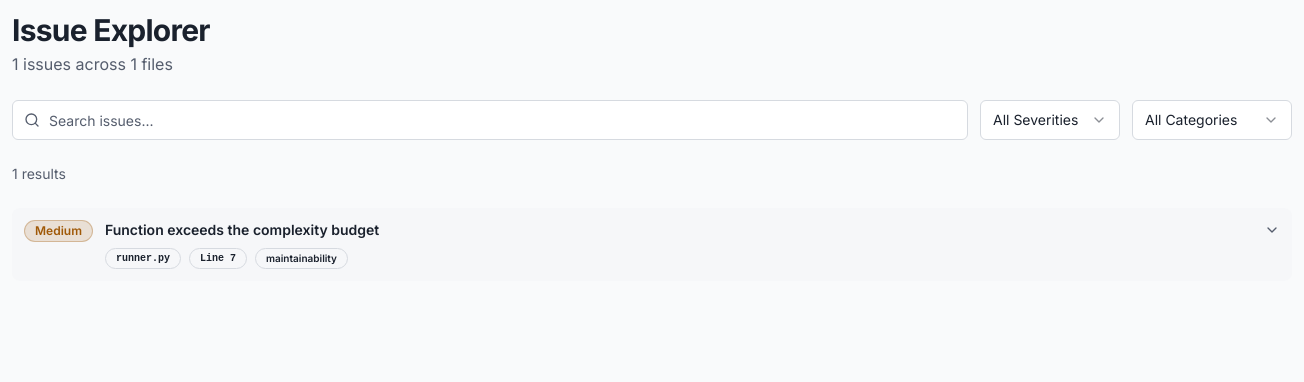
Test: IssueExplorer › gives each issue its context and remediation, not just a message
Check: the text "Function exceeds the complexity budget" is shown, box 105,221 -> 379,238
Click the button "Function exceeds the complexity budget" at x=242, y=230, box 105,220 -> 1280,240
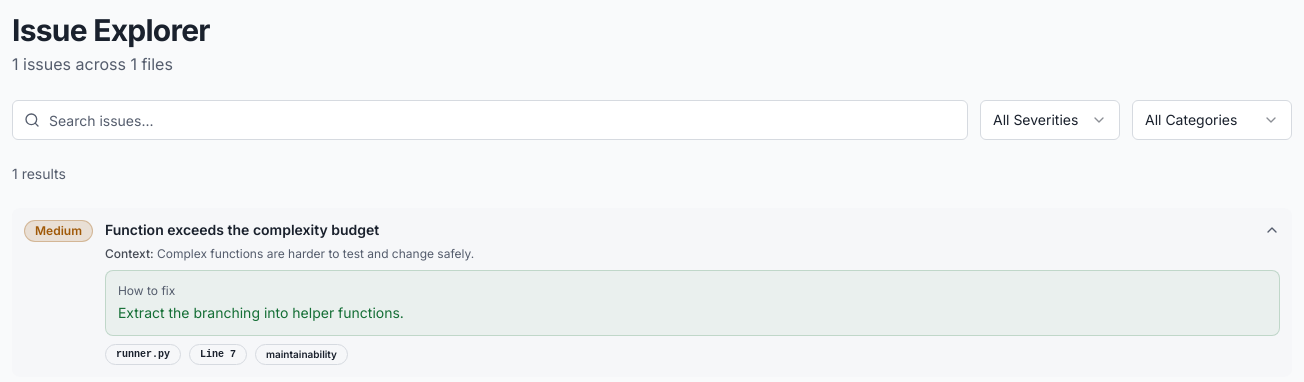
Check: the text "Complex functions are harder to test" is shown, box 157,246 -> 474,261
Check: the text "Extract the branching into helper functions." is shown, box 118,304 -> 404,321
